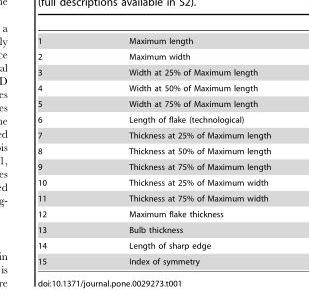table: (37, 36, 270, 265)
table column: (87, 36, 270, 265), (37, 36, 87, 265)
table row: (37, 48, 270, 64), (37, 64, 270, 80), (37, 95, 270, 111), (37, 111, 270, 127), (37, 127, 270, 143), (37, 158, 270, 174), (37, 174, 270, 190), (37, 190, 270, 206), (37, 221, 270, 237), (37, 237, 270, 253), (37, 80, 270, 95), (37, 143, 270, 158), (37, 206, 270, 221), (37, 36, 270, 48), (37, 253, 270, 265)
